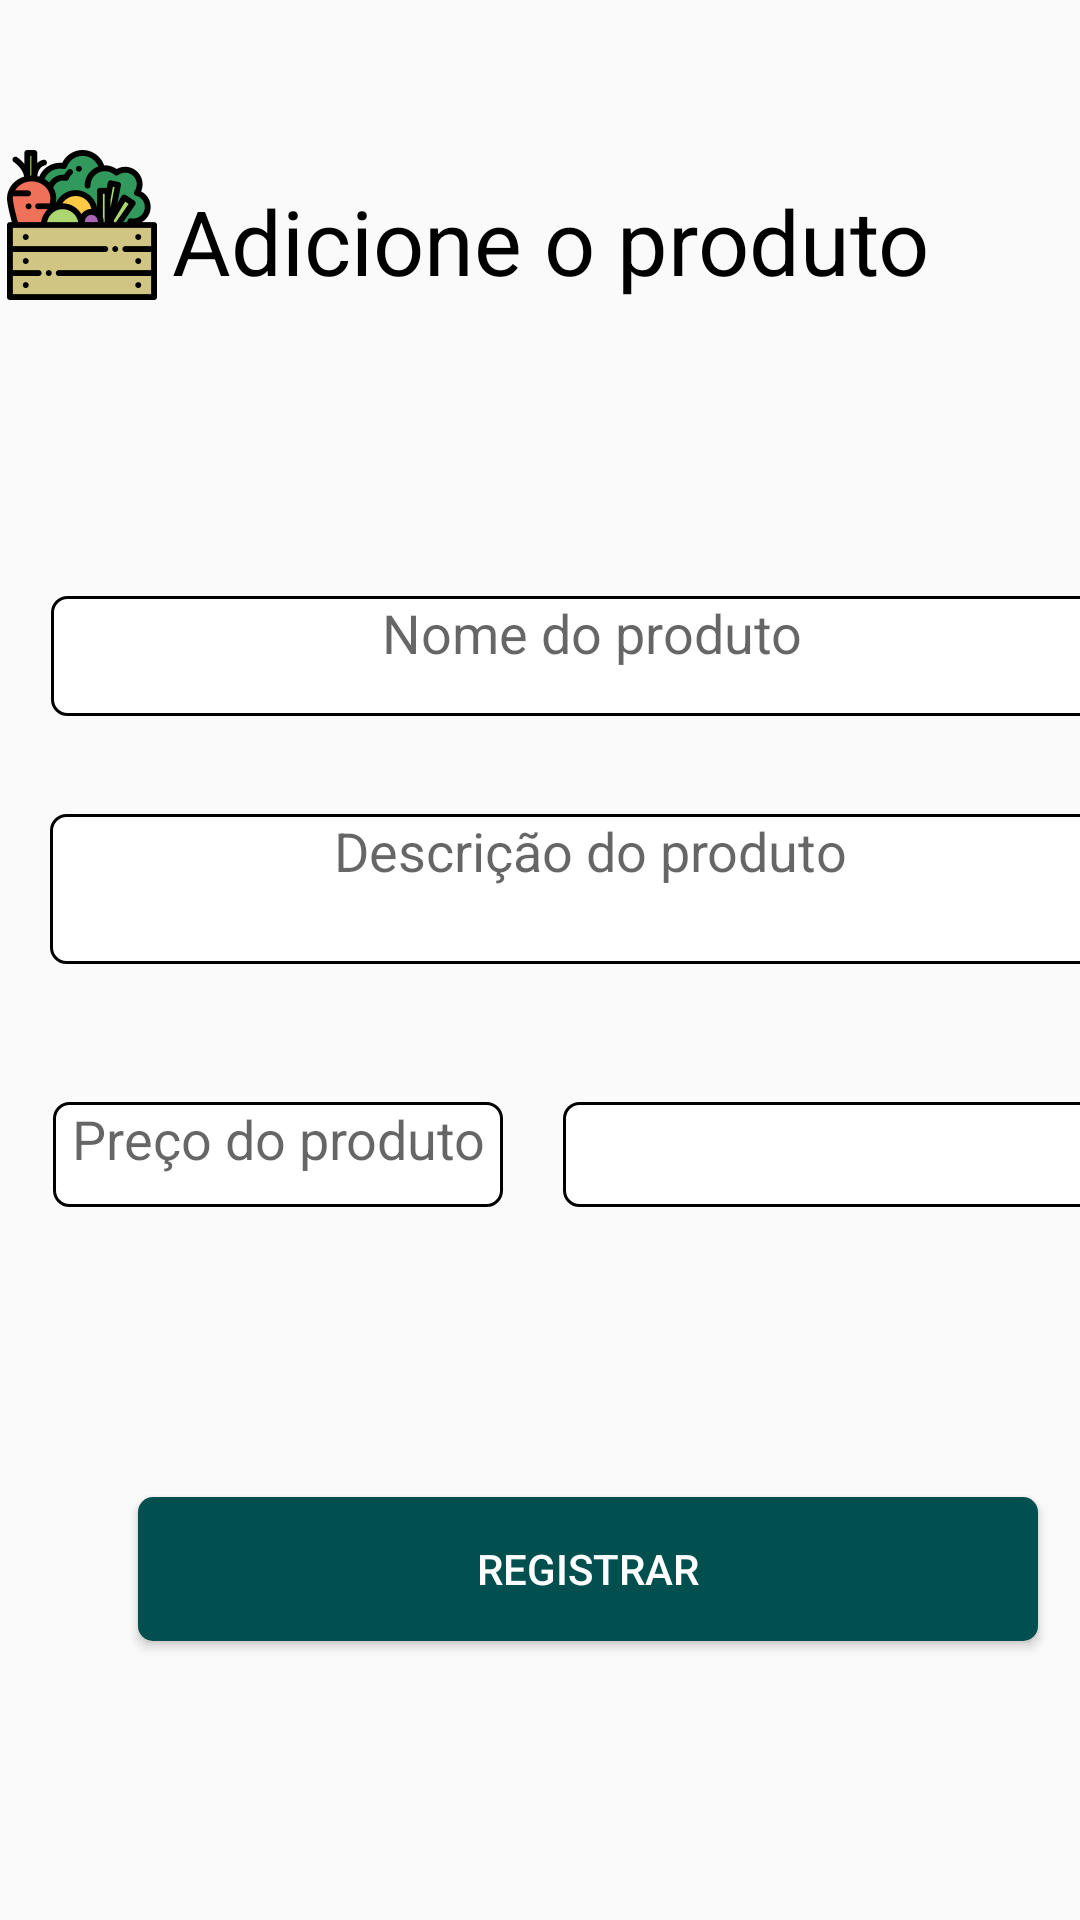

Screen size 1080x1920. Icon name, then its center in pixels as point (x, y):
vegetables: point (82, 225)
